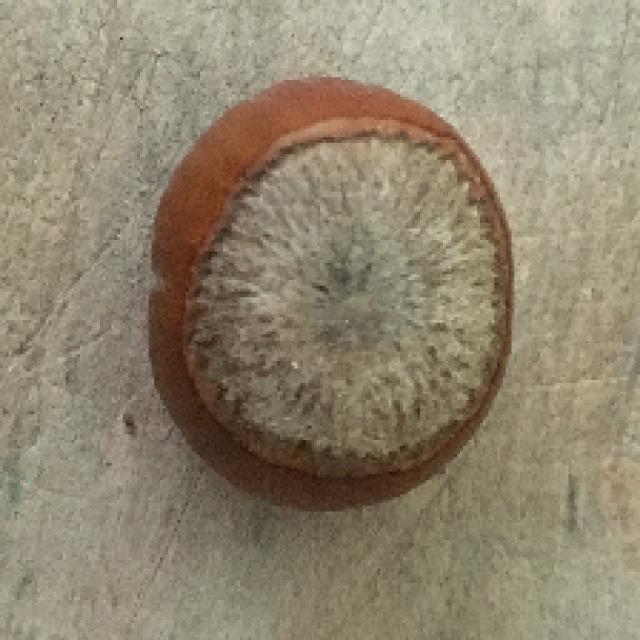qualityHazelnut: (145, 75, 519, 508)
